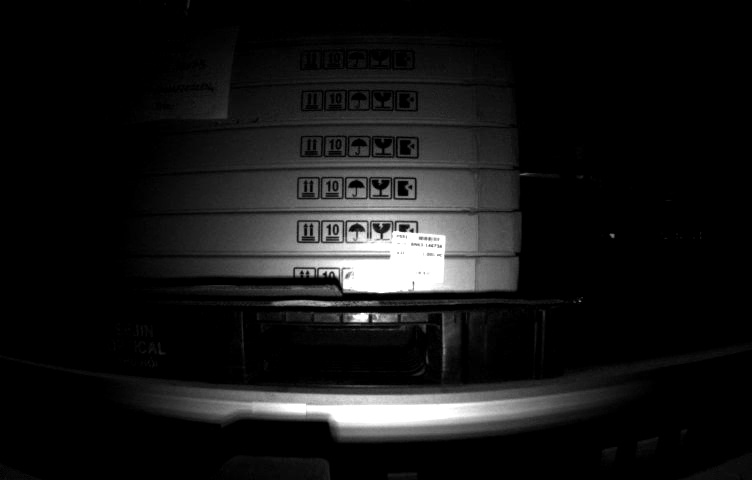True Barcode: (392, 232, 446, 282)
